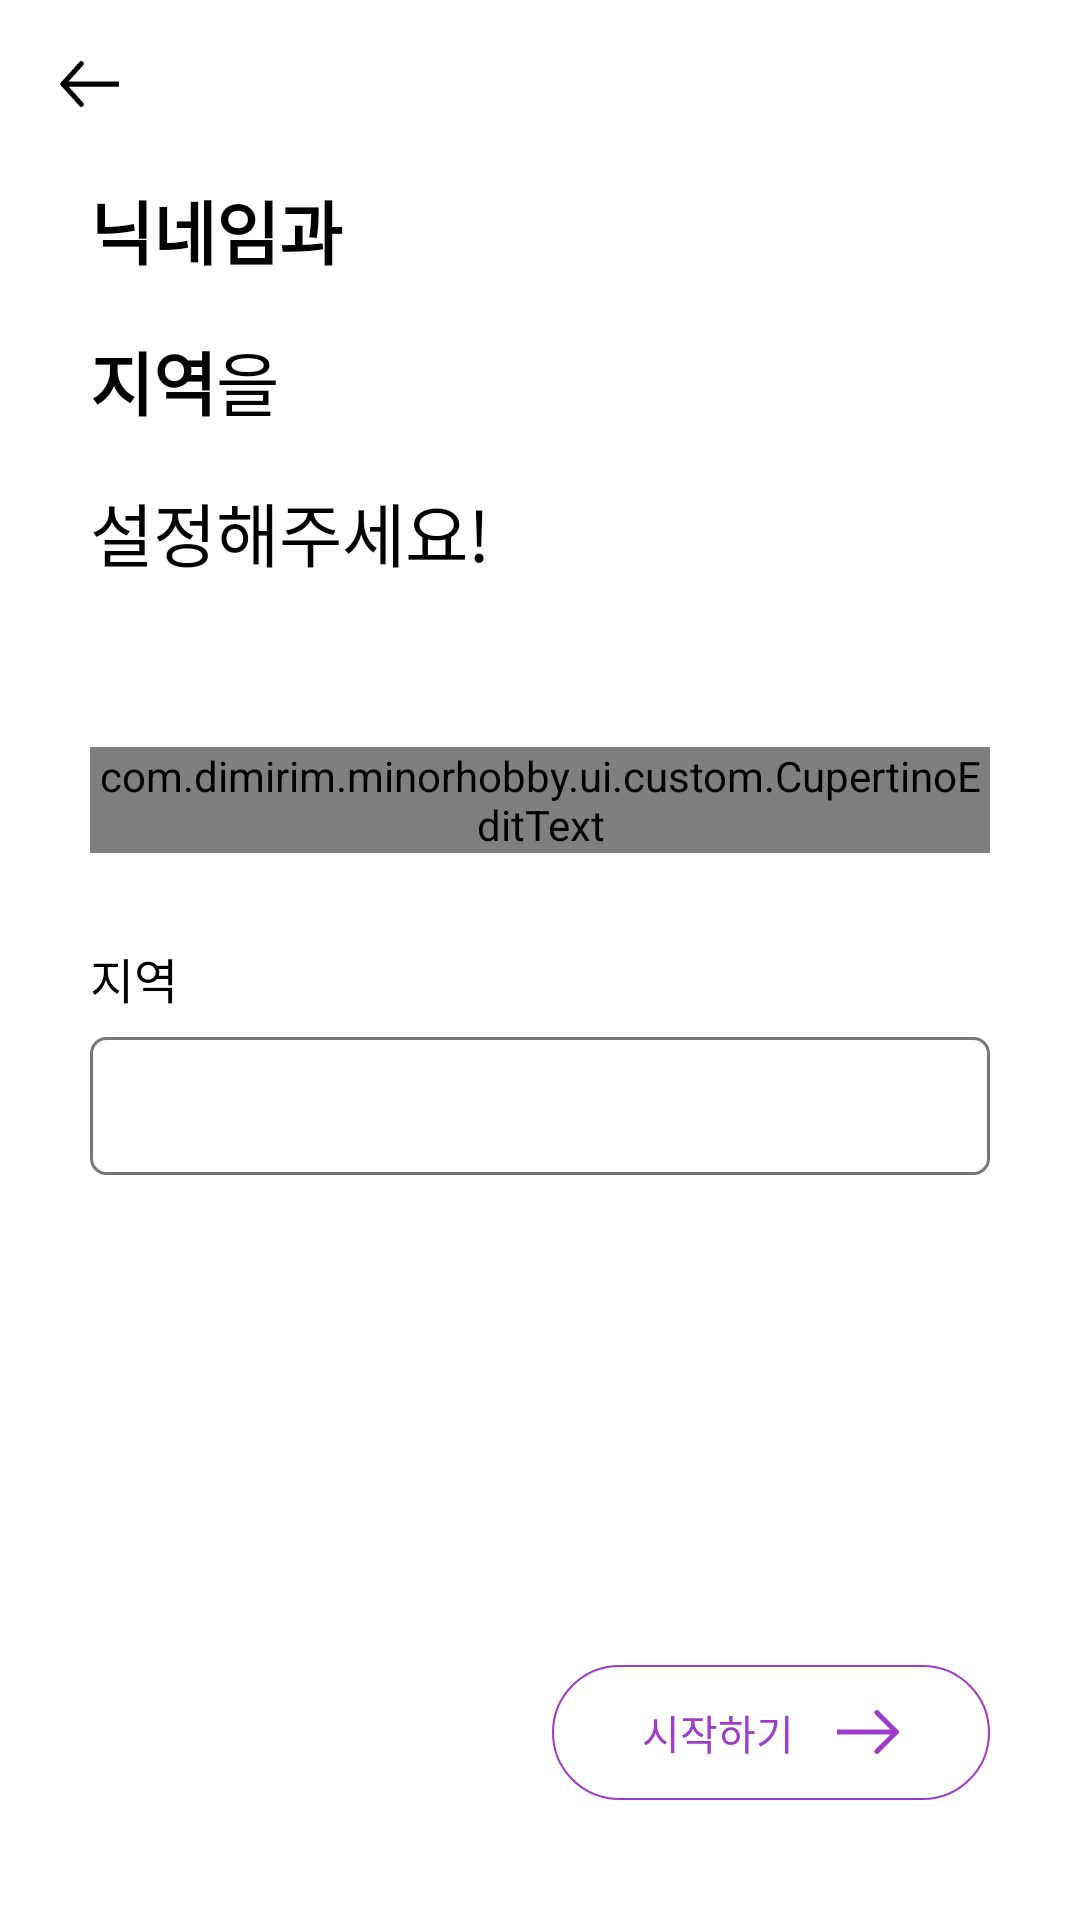

Icons on this 1080x1920 Android screen, each with its box as [x1,y1,x2,y2]:
back: [60,61,119,107]
next: [837,1710,899,1754]
